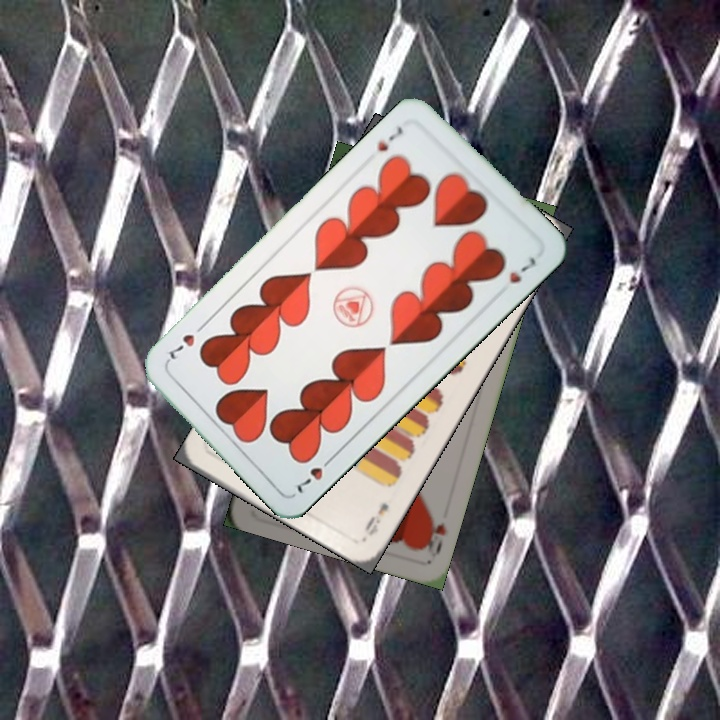E9: (360, 498, 391, 539)
H7: (289, 451, 338, 497), (371, 122, 406, 155)
HO: (417, 509, 449, 559)
